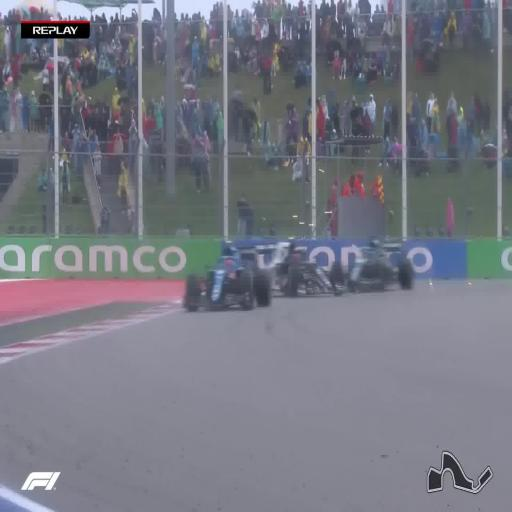f1_car: (183, 246, 272, 311), (240, 241, 345, 296), (273, 242, 345, 297), (347, 238, 414, 291)
